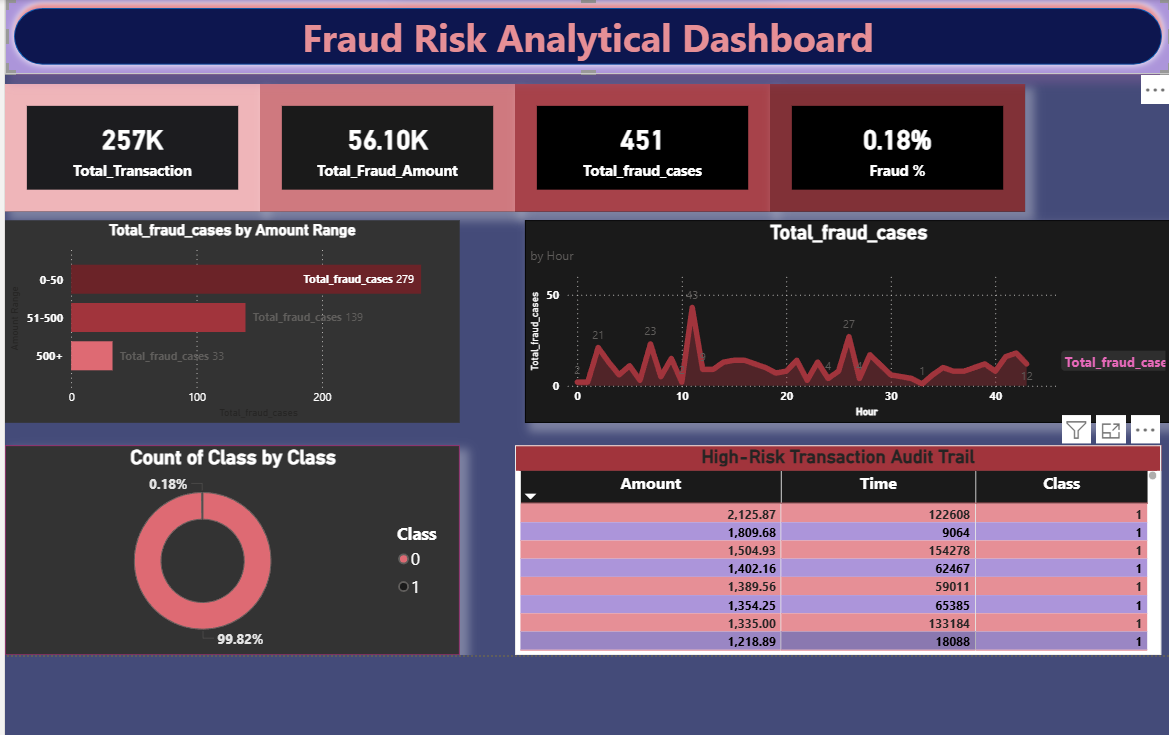

What the dashboard file says about the page in this screenshot:
{"tool":"powerbi","page":{"name":"Page 1","canvas":[1280,720],"ordinal":0},"visuals":[{"type":"card","fields":{"Values":["credit_card_dataset.Total_Transaction"]},"box":[0,93.3,279.9,140],"z":0},{"type":"card","fields":{"Values":["credit_card_dataset.Total_Fraud_Amount"]},"box":[279.9,93.3,279.9,140],"z":1000},{"type":"card","fields":{"Values":["credit_card_dataset.Total_fraud_cases"]},"box":[559.9,93.3,279.9,140],"z":2000},{"type":"card","fields":{"Values":["credit_card_dataset.Fraud %"]},"box":[839.8,93.3,279.9,140],"z":3000},{"type":"shape","box":[0,1.4,1280.3,82.3],"z":4000},{"type":"donutChart","fields":{"Y":["CountNonNull(credit_card_dataset.Class)"],"Category":["credit_card_dataset.Class"]},"box":[0,489.9,499.5,230.5],"z":5000},{"type":"lineChart","fields":{"Category":["credit_card_dataset.Hour"],"Y":["credit_card_dataset.Total_fraud_cases"]},"box":[570.8,242.9,709.4,222.3],"z":6000},{"type":"clusteredBarChart","fields":{"Category":["credit_card_dataset.Amount Range"],"Y":["credit_card_dataset.Total_fraud_cases"]},"box":[0,242.9,499.5,222.3],"z":7000},{"type":"tableEx","title":"High-Risk Transaction Audit Trail","fields":{"Values":["credit_card_dataset.Amount","credit_card_dataset.Time","credit_card_dataset.Class"]},"box":[559.9,489.9,709.4,230.5],"z":8000}]}

Visuals, with their boxes in screenshot pixels (x1, y1, x2, y2):
card - credit_card_dataset.Total_Transaction: (x1=0, y1=87, x2=252, y2=213)
card - credit_card_dataset.Total_Fraud_Amount: (x1=252, y1=87, x2=504, y2=213)
card - credit_card_dataset.Total_fraud_cases: (x1=504, y1=87, x2=756, y2=213)
card - credit_card_dataset.Fraud %: (x1=756, y1=87, x2=1008, y2=213)
shape: (x1=0, y1=4, x2=1153, y2=78)
donutChart - CountNonNull(credit_card_dataset.Class) x credit_card_dataset.Class: (x1=0, y1=444, x2=450, y2=652)
lineChart - credit_card_dataset.Hour x credit_card_dataset.Total_fraud_cases: (x1=514, y1=222, x2=1153, y2=422)
clusteredBarChart - credit_card_dataset.Amount Range x credit_card_dataset.Total_fraud_cases: (x1=0, y1=222, x2=450, y2=422)
"High-Risk Transaction Audit Trail" tableEx: (x1=504, y1=444, x2=1143, y2=652)
